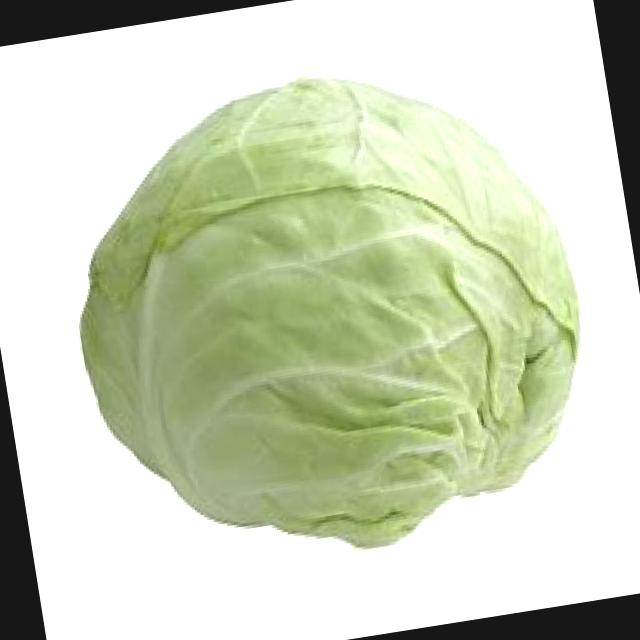cabbage: (78, 77, 583, 552)
